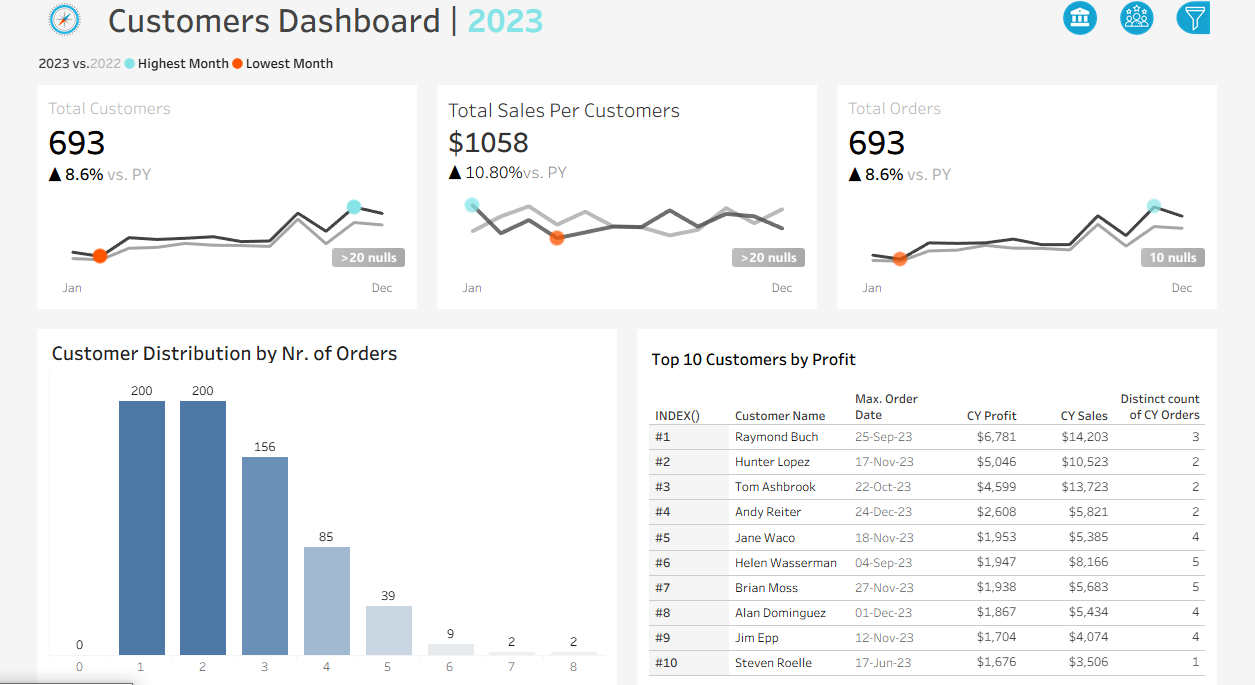

The page's visual inventory and layout, read from the dashboard file:
{"tool":"tableau","page":{"name":"Customers Dashboard","canvas":[1200,800],"ordinal":0},"visuals":[{"type":"image","param":"C:/Users/dell/Desktop/Sales Project/projects/sales-dashboard-project/images/Icon","box":[0,0,74,49]},{"type":"text","box":[74,0,1126,49]},{"type":"worksheet","title":"Legend KPI","mark":"Automatic","box":[0,49,1200,32]},{"type":"text","box":[1020,50,178,34]},{"type":"worksheet","title":"KPI Customers","mark":"Line","rows":["Max/Min Quantity (copy)_953074331867422729"],"cols":["Order Date"],"box":[1,82,400,275]},{"type":"worksheet","title":"KPI Sales Per Customers","mark":"Automatic","rows":["Max/Min Customers (copy)_953074331882549260"],"cols":["Order Date"],"box":[401,82,399,275]},{"type":"worksheet","title":"KPI Orders","mark":"Line","rows":["Max/Min Customers (copy)_953074331940110357"],"cols":["Order Date"],"box":[800,82,399,275]},{"type":"blank","box":[1020,91,178,32]},{"type":"parameter","param":"[Parameters].[Parameter 1]","box":[1020,123,178,52]},{"type":"text","box":[1020,175,178,29]},{"type":"filter","title":"KPI Customers","param":"[federated.0bbp1kd0h0eknv15lng5i0sr2zzd].[none:Category:nk]","box":[1020,204,178,52]},{"type":"filter","title":"KPI Customers","param":"[federated.0bbp1kd0h0eknv15lng5i0sr2zzd].[none:Sub-Category:nk]","box":[1020,256,178,52]},{"type":"blank","box":[1020,308,178,38]},{"type":"text","box":[1020,346,178,29]},{"type":"filter","title":"KPI Customers","param":"[federated.0bbp1kd0h0eknv15lng5i0sr2zzd].[none:Region:nk]","box":[1020,375,178,52]},{"type":"text","box":[18,376,564,30]},{"type":"text","box":[618,376,564,43]},{"type":"worksheet","title":"Customer Distribution","mark":"Automatic","rows":["Calculation_953074331834589184"],"cols":["Calculation_953074331945365526"],"box":[18,406,564,376]},{"type":"worksheet","title":"Top Customers","mark":"Automatic","rows":["Calculation_953074331966025752","Customer Name","Order Date"],"box":[618,419,564,362]},{"type":"filter","title":"KPI Customers","param":"[federated.0bbp1kd0h0eknv15lng5i0sr2zzd].[none:State:nk]","box":[1020,427,178,52]},{"type":"filter","title":"KPI Customers","param":"[federated.0bbp1kd0h0eknv15lng5i0sr2zzd].[none:City:nk]","box":[1020,479,178,52]},{"type":"legend","title":"KPI Customers","param":"[federated.0bbp1kd0h0eknv15lng5i0sr2zzd].[:Measure Names]","box":[1020,531,178,66]}]}

Visuals, with their boxes on the page's 1200x800 design canvas (x1, y1, x2, y2). These are canvas units, not pixel positions in the 1255x685 screenshot, which may show the page scaled, cropped or inside an application window:
image: (x1=0, y1=0, x2=74, y2=49)
text: (x1=74, y1=0, x2=1200, y2=49)
"Legend KPI" worksheet: (x1=0, y1=49, x2=1200, y2=81)
text: (x1=1020, y1=50, x2=1198, y2=84)
"KPI Customers" worksheet (Line marks): (x1=1, y1=82, x2=401, y2=357)
"KPI Sales Per Customers" worksheet: (x1=401, y1=82, x2=800, y2=357)
"KPI Orders" worksheet (Line marks): (x1=800, y1=82, x2=1199, y2=357)
blank: (x1=1020, y1=91, x2=1198, y2=123)
parameter: (x1=1020, y1=123, x2=1198, y2=175)
text: (x1=1020, y1=175, x2=1198, y2=204)
"KPI Customers" filter: (x1=1020, y1=204, x2=1198, y2=256)
"KPI Customers" filter: (x1=1020, y1=256, x2=1198, y2=308)
blank: (x1=1020, y1=308, x2=1198, y2=346)
text: (x1=1020, y1=346, x2=1198, y2=375)
"KPI Customers" filter: (x1=1020, y1=375, x2=1198, y2=427)
text: (x1=18, y1=376, x2=582, y2=406)
text: (x1=618, y1=376, x2=1182, y2=419)
"Customer Distribution" worksheet: (x1=18, y1=406, x2=582, y2=782)
"Top Customers" worksheet: (x1=618, y1=419, x2=1182, y2=781)
"KPI Customers" filter: (x1=1020, y1=427, x2=1198, y2=479)
"KPI Customers" filter: (x1=1020, y1=479, x2=1198, y2=531)
"KPI Customers" legend: (x1=1020, y1=531, x2=1198, y2=597)
